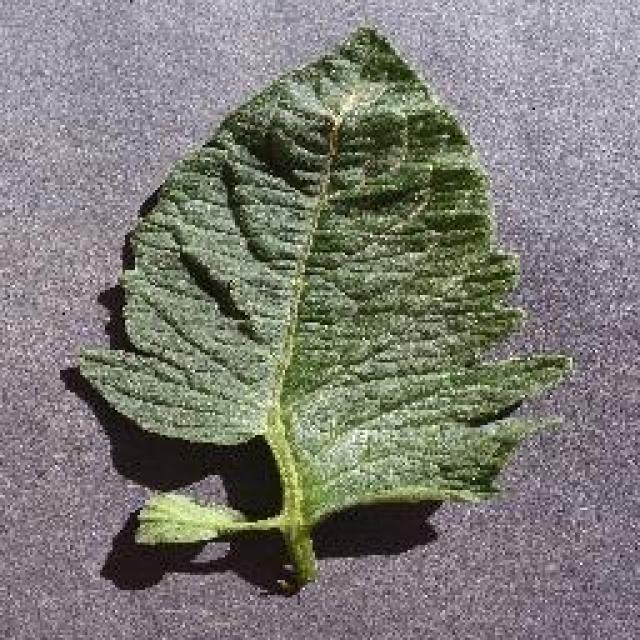Healthy: (70, 15, 585, 605)
